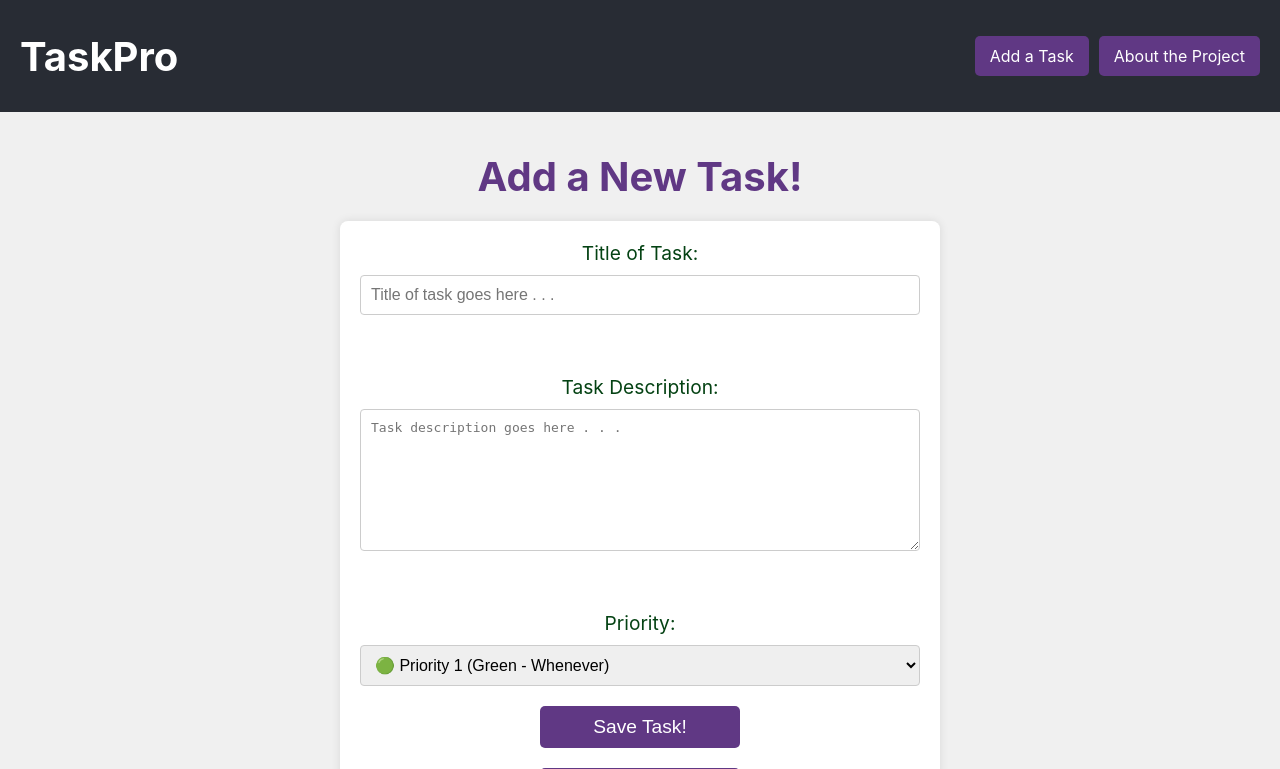
Test: Task Card Component › should mark the task as complete and update the status
Type "Sample Task Title" into the field named "taskTitle". click: (640, 295)
box: [360,275,920,315]
Type "Sample task description" into the text box named "taskDescription". click: (640, 480)
box: [360,409,920,551]
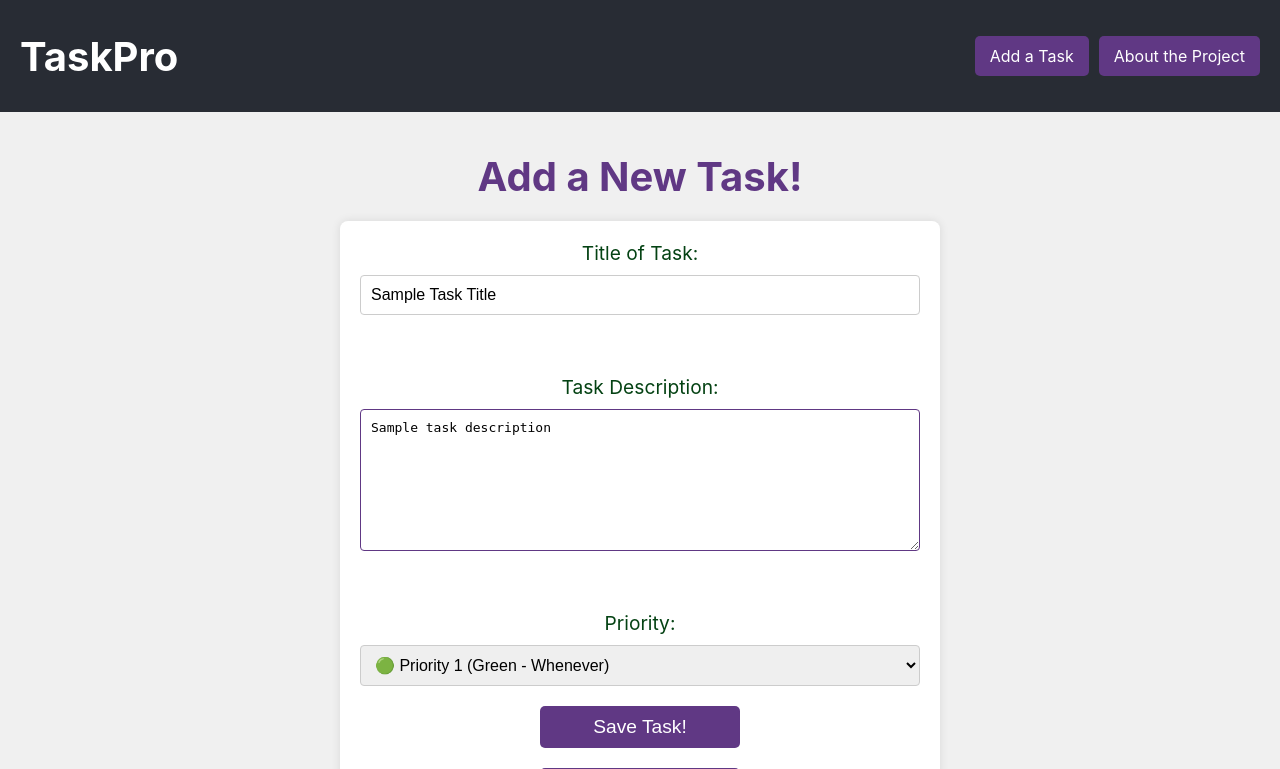
Select "🔵 Priority 2 (Blue - Start Planning)" in the dropdown with id "taskPriority". click: (640, 666)
box: [360,645,920,686]
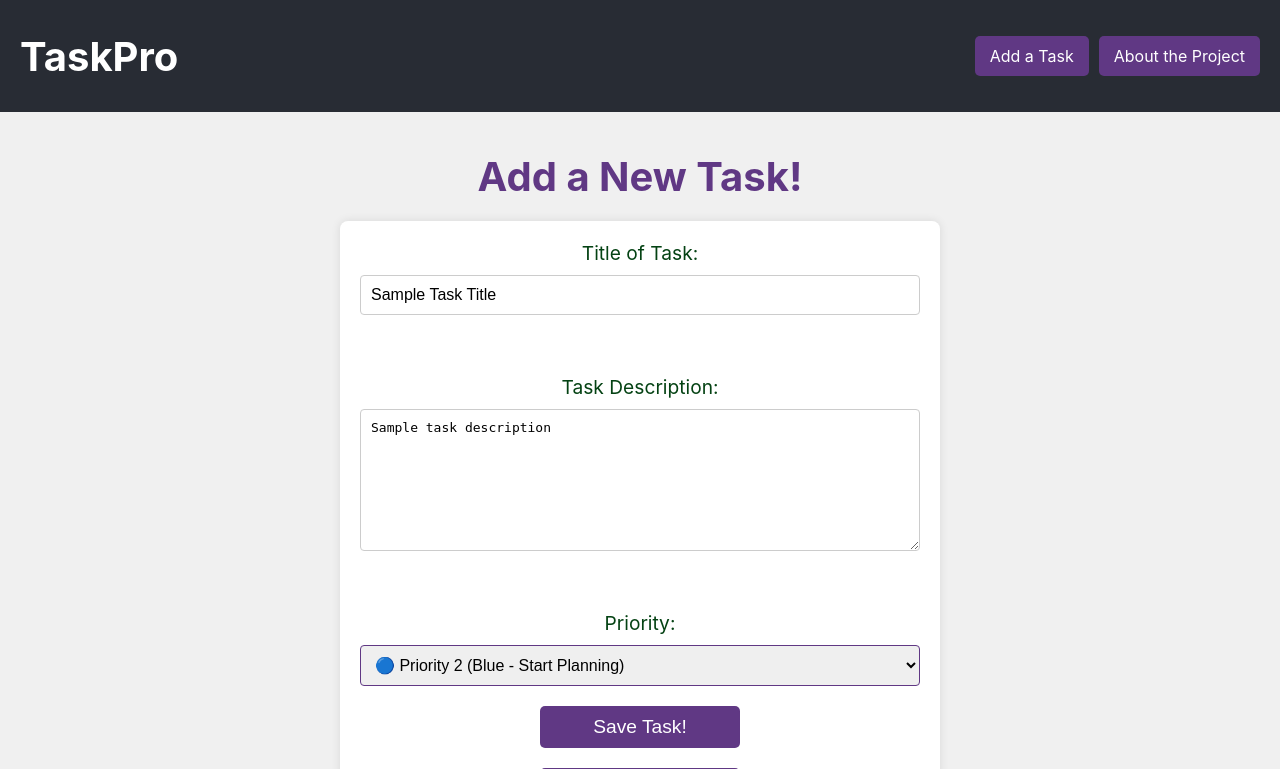
Click the button "Save Task!". click: (640, 727)
box: [540,706,740,748]
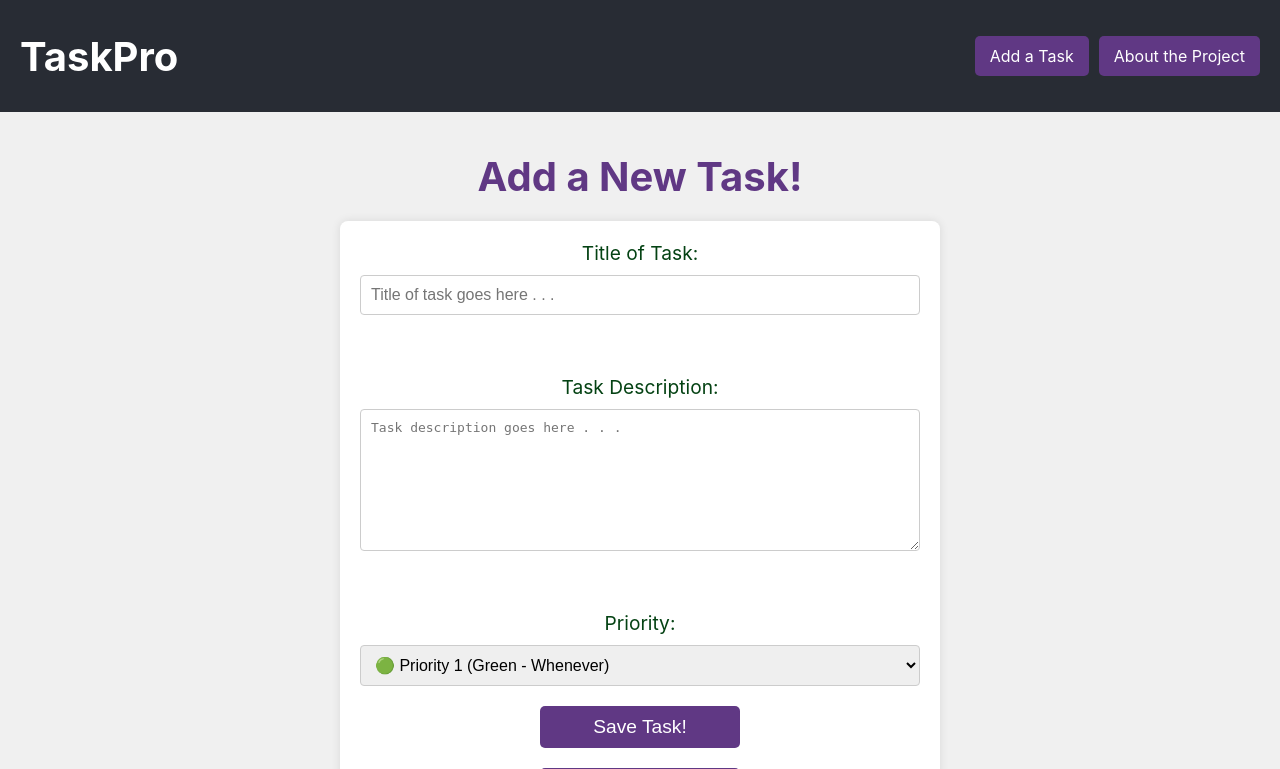
Scroll
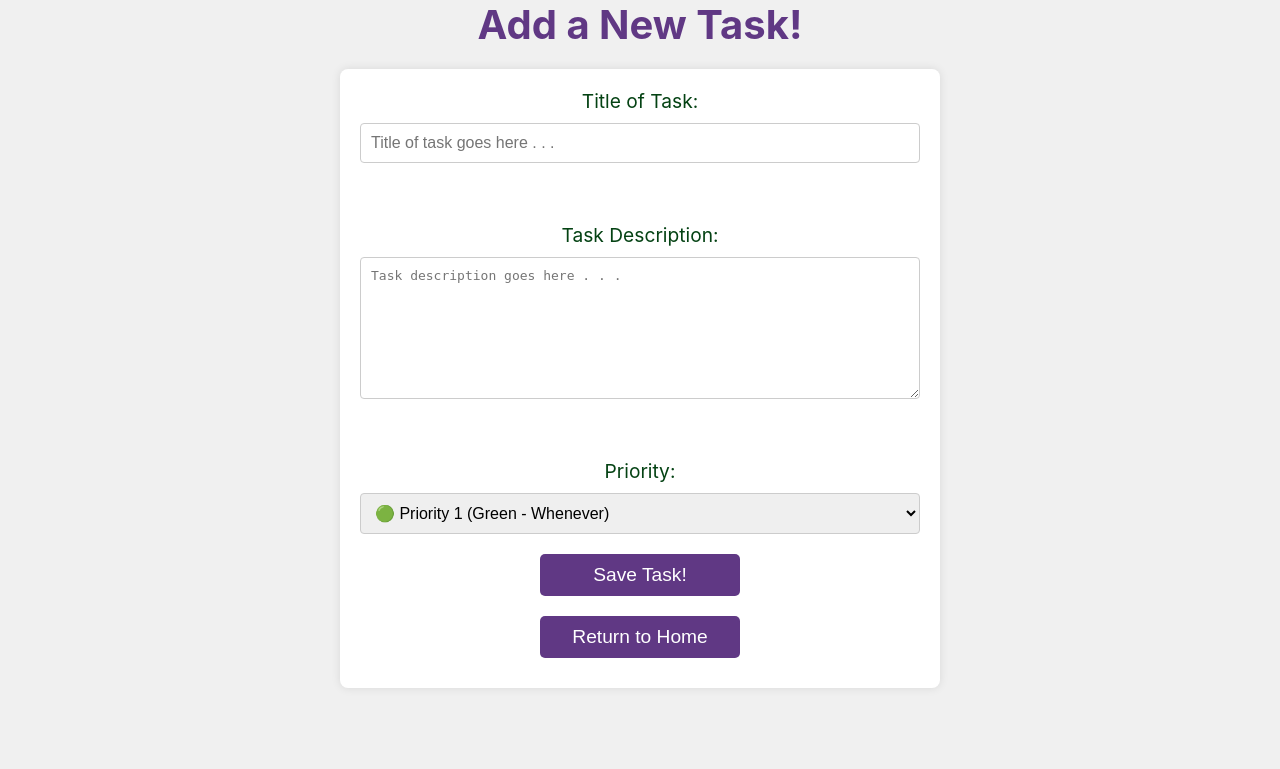
Click the button "Return to Home". click: (640, 637)
box: [540,616,740,658]
(page scrolled)
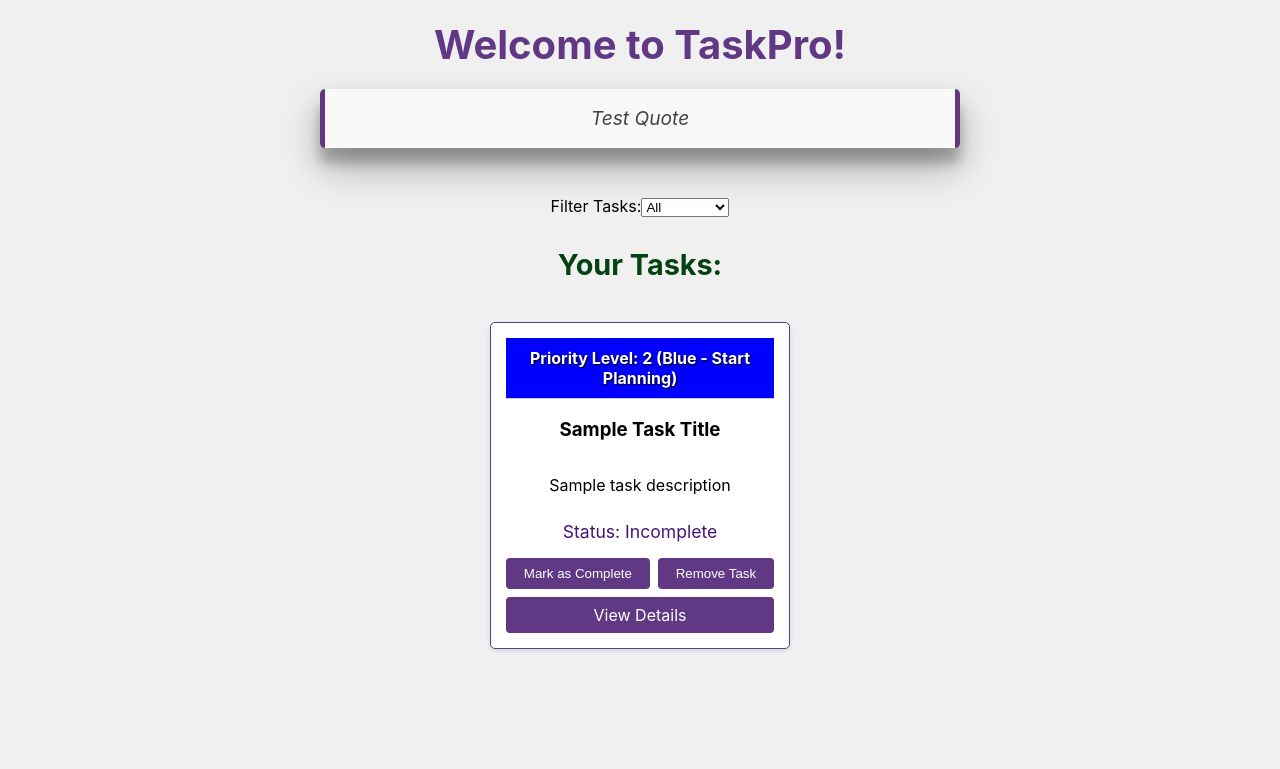
Click the button "Mark as Complete". click: (578, 574)
box: [506,558,650,589]
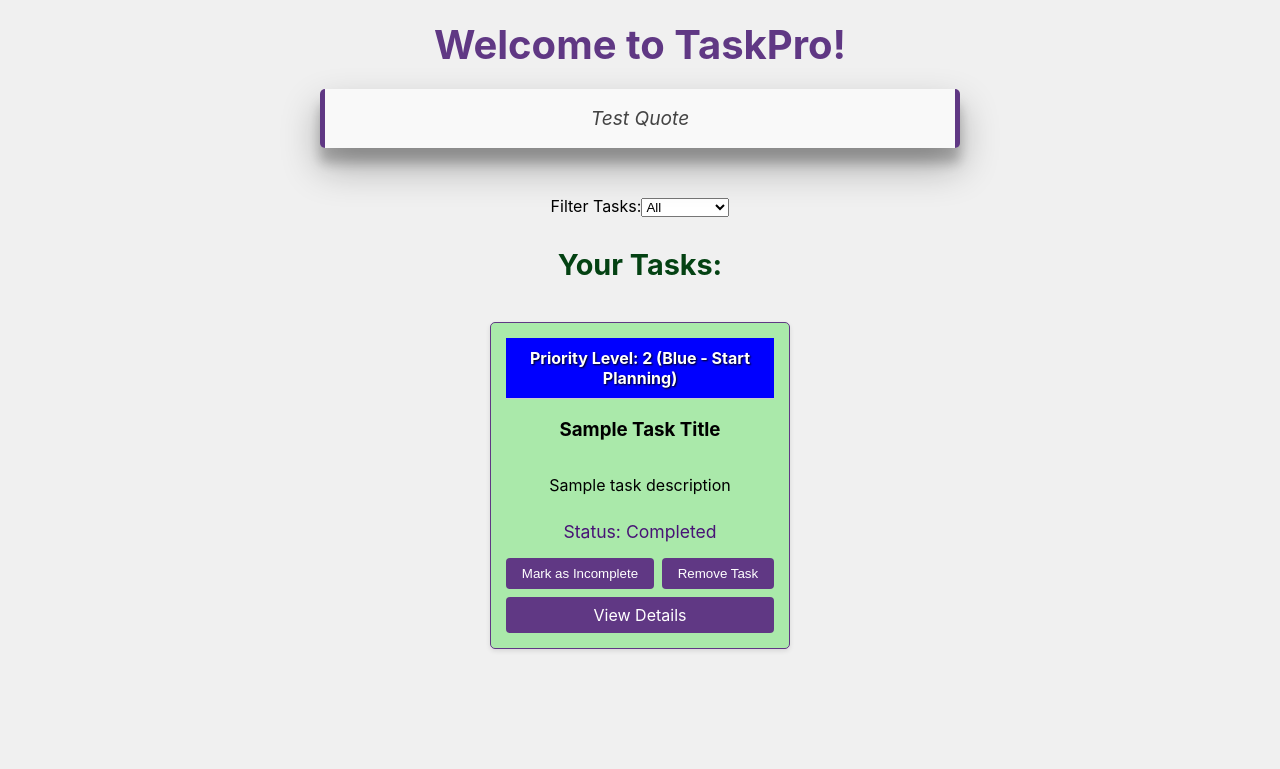
Expected: the text with class "task-status" shows "Completed", [563,521,716,542]
Expected: the button "Mark as Incomplete" is shown, [506,558,654,589]
